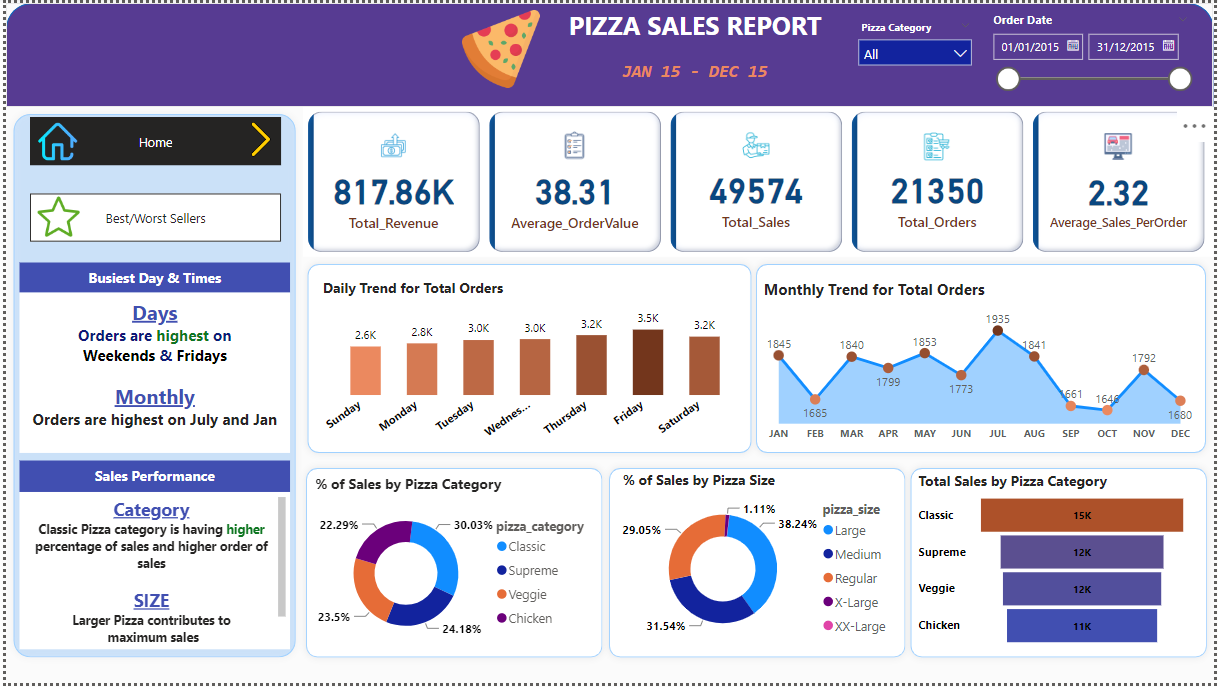

Layout of this report page (visuals, bound fields, positions):
{"tool":"powerbi","page":{"name":"Home","canvas":[1280,720],"ordinal":0},"visuals":[{"type":"cardVisual","fields":{"Data":["Measure.Total_Revenue","Measure.Average_OrderValue","Measure.Total_Sales","Measure.Total_Orders","Measure.Average_Sales_PerOrder"]},"box":[315.3,110.2,964.4,159.3],"z":0},{"type":"shape","box":[0,0,1279.7,110.2],"z":1000},{"type":"textbox","box":[580,0,300,56.7],"z":2000},{"type":"textbox","box":[591.7,55,276.7,53.3],"z":3000},{"type":"image","box":[458.1,0,133.2,97],"z":4000},{"type":"shape","box":[311.5,268.6,486.4,216.2],"z":5000},{"type":"clusteredColumnChart","title":"Daily Trend for Total Orders","fields":{"Category":["pizza_sales.Day Name"],"Y":["Measure.Total_Orders"]},"box":[330.6,290.9,456.2,181.2],"z":6000},{"type":"shape","box":[310,485,330,216.7],"z":7000},{"type":"shape","box":[786.8,268.6,492.7,216.2],"z":8000},{"type":"areaChart","title":"Monthly Trend for Total Orders","fields":{"Category":["pizza_sales.Month Name"],"Y":["Measure.Total_Orders"]},"box":[798.3,291.7,466.7,180],"z":9000},{"type":"shape","box":[631.7,485,330,216.7],"z":10000},{"type":"shape","box":[950,485,330,216.7],"z":11000},{"type":"slicer","title":"% of Sales by Pizza Category","fields":{"Values":["pizza_sales.pizza_category"]},"box":[893.3,13.3,140,81.7],"z":12000},{"type":"donutChart","title":"% of Sales by Pizza Size","fields":{"Y":["Measure.Total_Sales"],"Category":["pizza_sales.pizza_size"]},"box":[648.3,495,301.7,190],"z":13000},{"type":"funnel","title":"Total Sales by Pizza Category","fields":{"Category":["pizza_sales.pizza_category"],"Y":["Measure.Total_Sales"]},"box":[961.8,495.5,295.5,190],"z":14000},{"type":"shape","box":[0,110,315,591.7],"z":15000},{"type":"textbox","box":[15,275,286.7,31.7],"z":16000},{"type":"textbox","box":[15,306.7,286.7,170],"z":17000},{"type":"textbox","box":[15,485,286.7,33.3],"z":18000},{"type":"textbox","box":[15,518.3,286.7,166.7],"z":19000},{"type":"slicer","title":"% of Sales by Pizza Category","fields":{"Values":["pizza_sales.order_date"]},"box":[1033.3,5,231.7,105],"z":20000},{"type":"donutChart","title":"% of Sales by Pizza Category","fields":{"Y":["Measure.Total_Sales"],"Category":["pizza_sales.pizza_category"]},"box":[323.3,498.3,301.7,190],"z":21000},{"type":"pageNavigator","box":[25,120,266.7,51.7],"z":22000},{"type":"pageNavigator","box":[25,201.7,266.7,51.7],"z":23000},{"type":"image","box":[238.3,120,63.3,46.7],"z":24000},{"type":"image","box":[25,120,58.3,51.7],"z":25000},{"type":"image","box":[5,198.3,101.7,55],"z":26000}]}

Visuals, with their boxes in screenshot pixels (x1, y1, x2, y2), scaled from the page's 1280x720 canvas onto the 1218x687 screenshot:
cardVisual - Measure.Total_Revenue x Measure.Average_OrderValue: x1=300 y1=105 x2=1217 y2=257
shape: x1=0 y1=0 x2=1217 y2=105
textbox: x1=552 y1=0 x2=837 y2=54
textbox: x1=563 y1=52 x2=826 y2=103
image: x1=436 y1=0 x2=563 y2=93
shape: x1=296 y1=256 x2=759 y2=463
"Daily Trend for Total Orders" clusteredColumnChart: x1=315 y1=278 x2=749 y2=450
shape: x1=295 y1=463 x2=609 y2=670
shape: x1=749 y1=256 x2=1217 y2=463
"Monthly Trend for Total Orders" areaChart: x1=760 y1=278 x2=1204 y2=450
shape: x1=601 y1=463 x2=915 y2=670
shape: x1=904 y1=463 x2=1217 y2=670
"% of Sales by Pizza Category" slicer: x1=850 y1=13 x2=983 y2=91
"% of Sales by Pizza Size" donutChart: x1=617 y1=472 x2=904 y2=654
"Total Sales by Pizza Category" funnel: x1=915 y1=473 x2=1196 y2=654
shape: x1=0 y1=105 x2=300 y2=670
textbox: x1=14 y1=262 x2=287 y2=293
textbox: x1=14 y1=293 x2=287 y2=455
textbox: x1=14 y1=463 x2=287 y2=495
textbox: x1=14 y1=495 x2=287 y2=654
"% of Sales by Pizza Category" slicer: x1=983 y1=5 x2=1204 y2=105
"% of Sales by Pizza Category" donutChart: x1=308 y1=475 x2=595 y2=657
pageNavigator: x1=24 y1=114 x2=278 y2=164
pageNavigator: x1=24 y1=192 x2=278 y2=242
image: x1=227 y1=114 x2=287 y2=159
image: x1=24 y1=114 x2=79 y2=164
image: x1=5 y1=189 x2=102 y2=242
